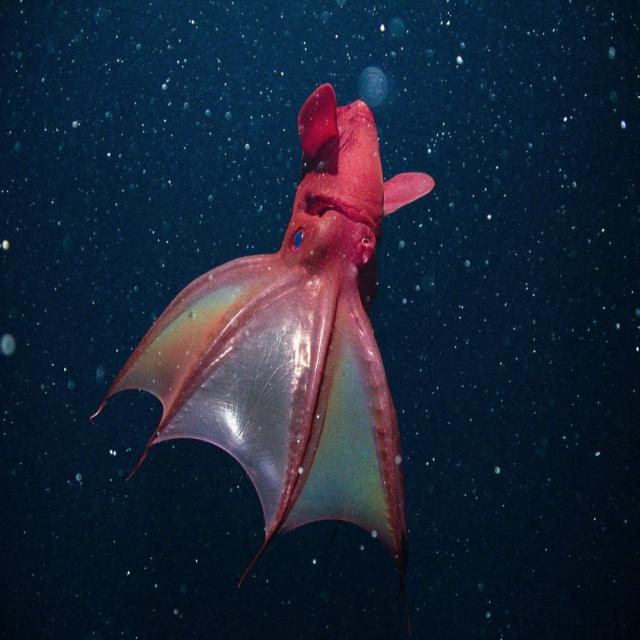squid: (94, 84, 435, 594)
